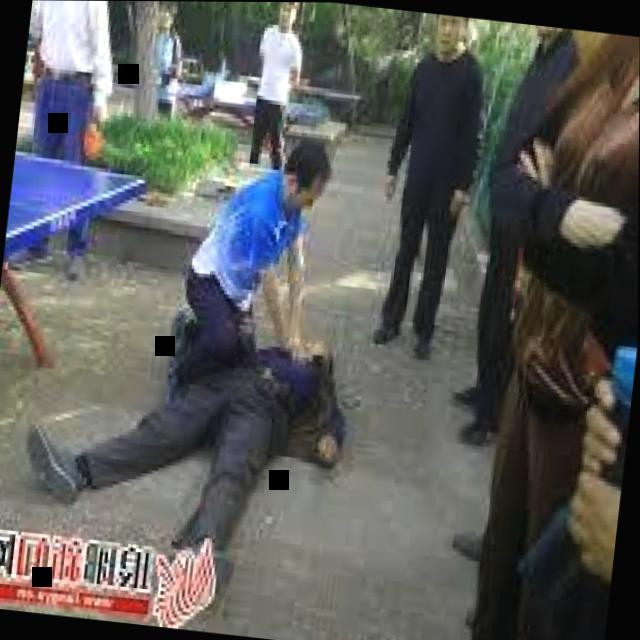Fall-Detected: (12, 274, 365, 640)
